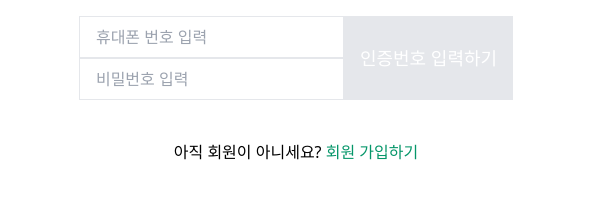
Test: Log In › can see phoneNumber /password validation errors
The width and height of the screenshot is (593, 201).
Type "ㅁㄴㅇㄹ" into the field with placeholder "휴대폰 번호 입력".
click(212, 37); type("ㅁㄴㅇㄹ")  # box [79,16,344,58]
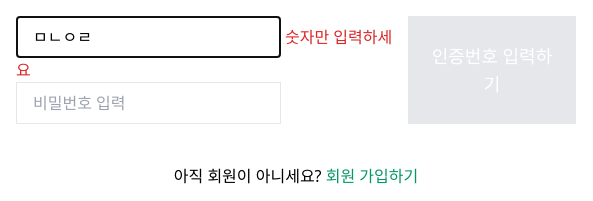
Result: the message reads "숫자만 입력하세요" at [16,22,392,85]
Clear the field with placeholder "휴대폰 번호 입력" at [149, 37], box [16,16,281,58]
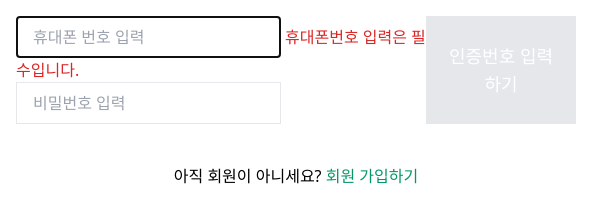
Result: the message reads "휴대폰번호 입력은 필수입니다." at [16,22,426,85]
Type "01012345678" into the field with placeholder "휴대폰 번호 입력".
click(149, 37); type("01012345678")  # box [16,16,281,58]
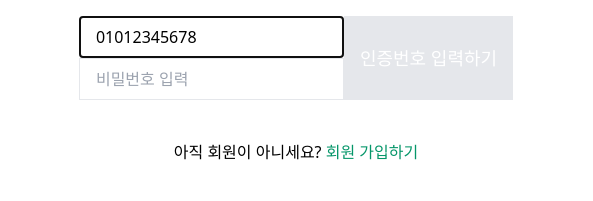
Type "a" into the password field with placeholder "비밀번호 입력".
click(212, 79); type("a")  # box [79,58,344,100]
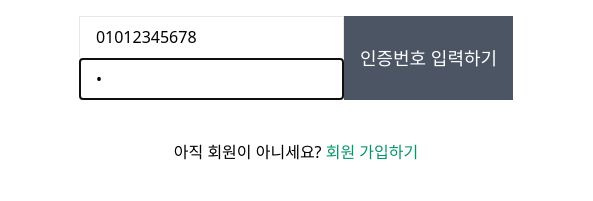
Clear the password field with placeholder "비밀번호 입력" at [212, 79], box [79,58,344,100]
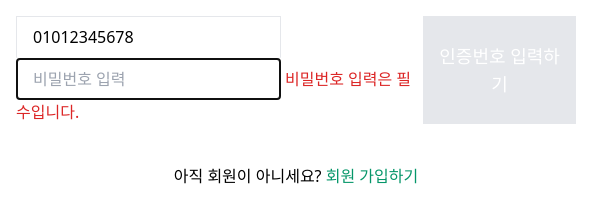
Result: the message reads "비밀번호 입력은 필수입니다." at [16,64,411,127]
